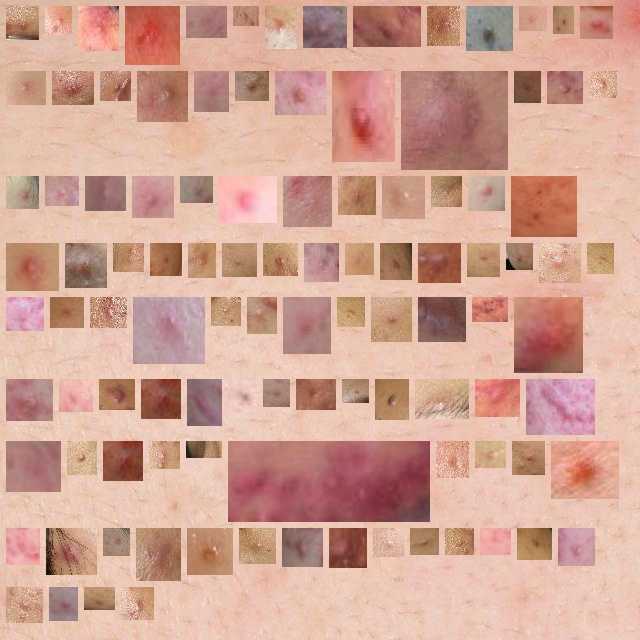papule: (236, 449, 422, 514), (409, 79, 500, 162), (340, 79, 387, 154), (522, 305, 575, 365), (141, 305, 197, 356), (519, 184, 569, 229), (559, 449, 611, 491), (534, 387, 587, 427), (133, 14, 172, 57), (14, 449, 53, 484), (291, 305, 323, 346), (227, 184, 269, 215), (361, 14, 413, 39), (145, 79, 180, 114), (14, 251, 51, 283), (291, 184, 324, 219), (54, 536, 89, 567), (144, 536, 173, 573), (283, 79, 318, 107), (195, 536, 225, 567), (426, 305, 458, 334), (423, 387, 461, 411), (474, 14, 505, 43), (14, 387, 45, 413), (73, 251, 99, 280), (390, 184, 417, 211), (311, 14, 339, 40), (86, 14, 111, 43), (379, 305, 404, 334), (140, 184, 166, 210), (426, 251, 453, 275), (483, 387, 512, 409), (547, 251, 573, 275), (195, 387, 214, 418), (149, 387, 173, 411), (111, 449, 135, 473), (290, 536, 315, 559), (337, 536, 359, 560), (346, 184, 368, 207), (202, 79, 221, 104), (93, 184, 118, 203), (60, 79, 86, 97), (566, 536, 587, 558), (383, 387, 401, 412), (312, 251, 331, 274), (273, 14, 289, 41), (14, 79, 38, 97), (247, 536, 268, 556), (14, 595, 35, 615), (435, 14, 452, 38), (194, 14, 219, 30), (476, 184, 497, 203), (14, 305, 36, 323), (14, 536, 32, 557), (304, 387, 328, 402), (444, 449, 461, 470), (230, 251, 249, 269), (555, 79, 575, 96), (388, 251, 404, 272), (271, 251, 290, 268), (98, 305, 119, 320), (14, 14, 31, 32), (475, 251, 492, 269), (67, 387, 85, 404), (520, 449, 537, 467), (525, 536, 544, 552), (107, 387, 127, 402), (255, 305, 269, 326), (588, 14, 605, 31), (14, 184, 31, 201), (129, 595, 146, 612), (158, 251, 174, 268), (58, 305, 76, 320), (243, 79, 261, 93), (53, 184, 71, 198), (75, 449, 89, 467), (57, 595, 70, 613), (196, 251, 208, 270), (439, 184, 454, 199), (236, 387, 249, 404), (108, 79, 123, 93), (353, 251, 366, 267), (121, 251, 136, 264), (381, 536, 396, 549), (92, 595, 107, 608), (188, 184, 205, 195), (219, 305, 233, 318), (480, 305, 500, 314), (157, 449, 172, 461), (522, 79, 533, 95), (345, 305, 357, 319), (595, 251, 606, 266), (483, 449, 498, 460), (488, 536, 503, 547), (53, 14, 64, 27), (111, 535, 122, 548), (418, 536, 431, 547), (453, 536, 466, 547), (597, 79, 609, 90), (271, 387, 282, 399), (514, 251, 525, 262), (527, 14, 539, 23), (350, 387, 361, 395), (561, 14, 566, 26), (241, 14, 251, 18)
